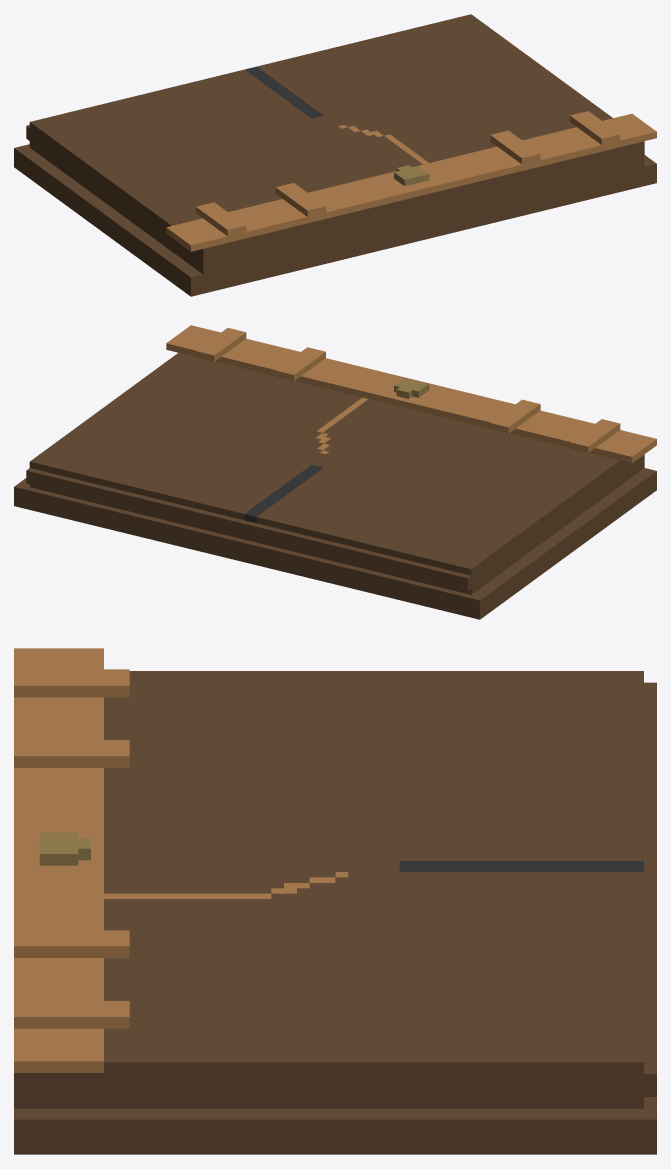
Rendered from hot_pants_fur.glb.
The picture shows the model from 3 angles, top to bottom: view 1: azimuth 30°, elevation 25°; view 2: azimuth 150°, elevation 25°; view 3: azimuth 270°, elevation 25°; orthographic projection. The views are drawn at different scales.
Visible parts, largest first — view 1: hot_pants_fur:compound; view 2: hot_pants_fur:compound; view 3: hot_pants_fur:compound.
Part boxes in pixels (x1,y1,x2,y2): hot_pants_fur:compound: (14,14,656,296); hot_pants_fur:compound: (14,325,656,619); hot_pants_fur:compound: (14,648,656,1154).
Bounding box in the file's own units: 0.304 × 0.036 × 0.2.
